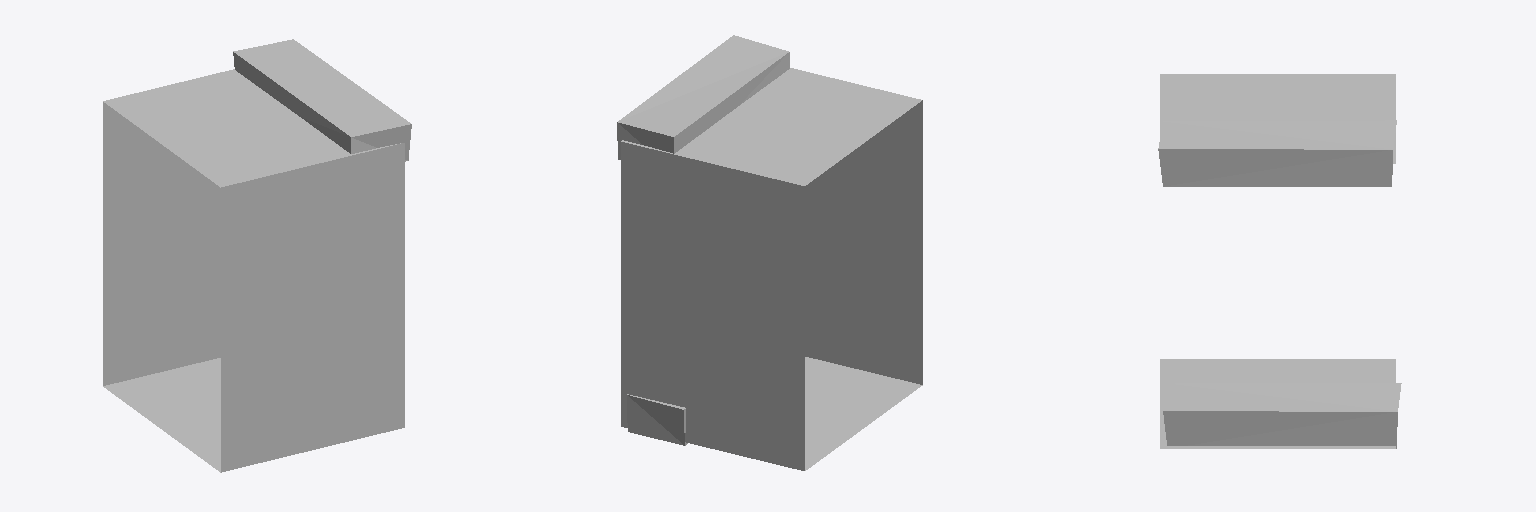
Rendered from seg_notexture.obj.
3 renders of one model, left to right at view 1: azimuth 30°, elevation 25°; view 2: azimuth 150°, elevation 25°; view 3: azimuth 270°, elevation 25°, orthographic.
Visible parts, largest first — view 1: box_Cube, cover_Cube.008_Cube.000; view 2: box_Cube, cover_Cube.008_Cube.000, step_Cube.008_Cube.008; view 3: box_Cube, cover_Cube.008_Cube.000, step_Cube.008_Cube.008.
Part boxes in pixels (x1,y1,x2,y2): box_Cube: (103, 69, 404, 472); cover_Cube.008_Cube.000: (233, 39, 411, 161); box_Cube: (621, 68, 922, 470); cover_Cube.008_Cube.000: (617, 35, 789, 159); step_Cube.008_Cube.008: (627, 394, 687, 445); box_Cube: (1160, 74, 1395, 448); cover_Cube.008_Cube.000: (1158, 120, 1396, 186); step_Cube.008_Cube.008: (1163, 383, 1401, 448).
Bounding box in the file's own units: 2.07 × 3.18 × 2.29.